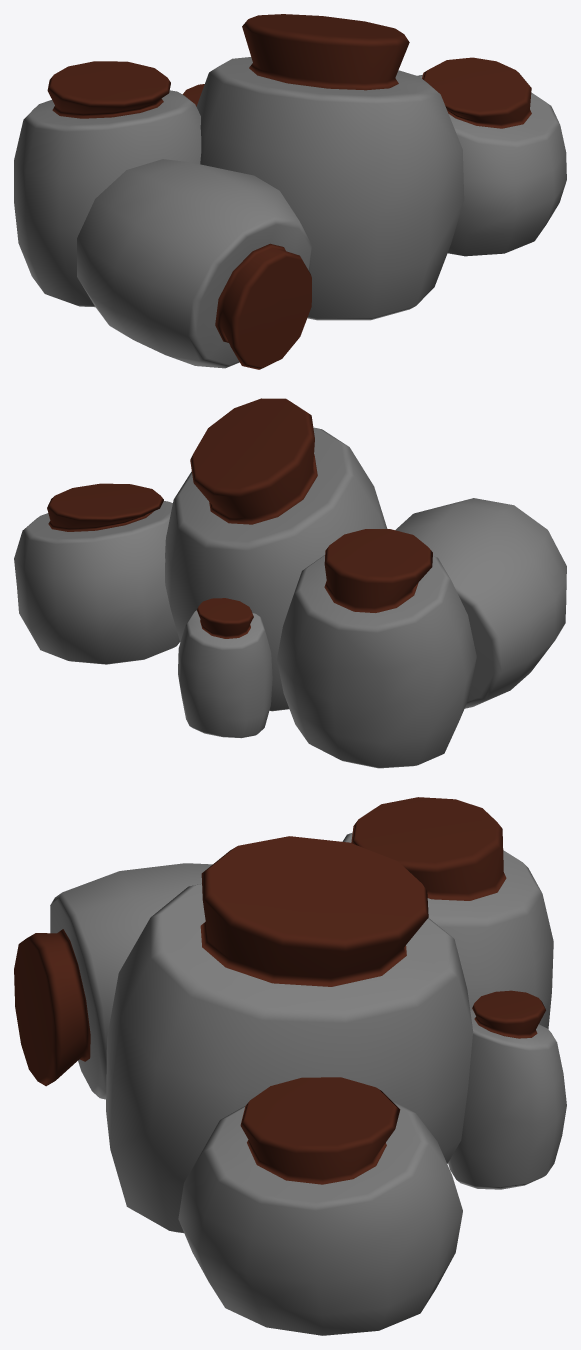
Rendered from cask_02.fbx.
3 views of the same model, one above another, from view 1: azimuth 30°, elevation 25°; view 2: azimuth 150°, elevation 25°; view 3: azimuth 270°, elevation 25° (orthographic). The views are drawn at different scales.
Visible parts, largest first — view 1: cask_02; view 2: cask_02; view 3: cask_02.
Boxes of the visible parts, x1,y1,x2,y2 form: cask_02: (14,14,566,369); cask_02: (14,398,566,768); cask_02: (14,797,566,1335).
Bounding box in the file's own units: 173 × 87.47 × 126.
